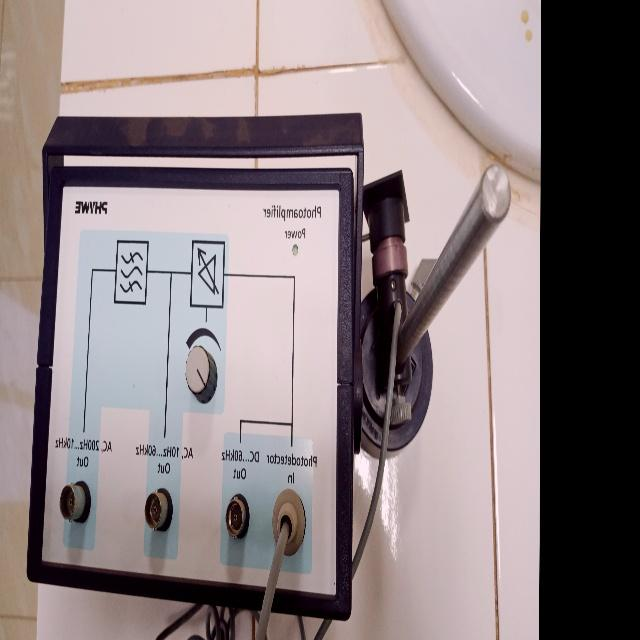Photo Amplifier Power Supply: (11, 92, 512, 634)
